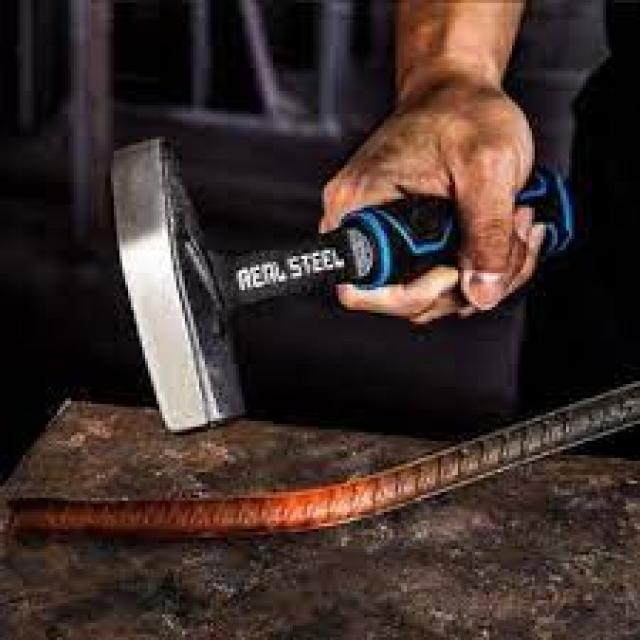hammer: (98, 127, 599, 446)
